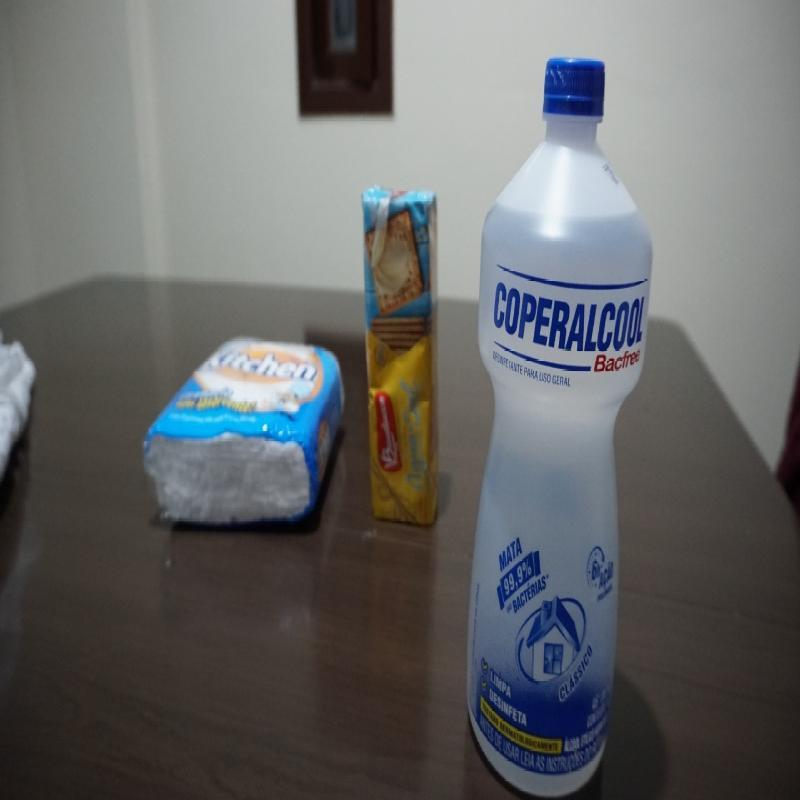Alcohol Bottle: (463, 56, 653, 795)
Cracker: (362, 185, 441, 527)
Napkin: (140, 335, 347, 534)
